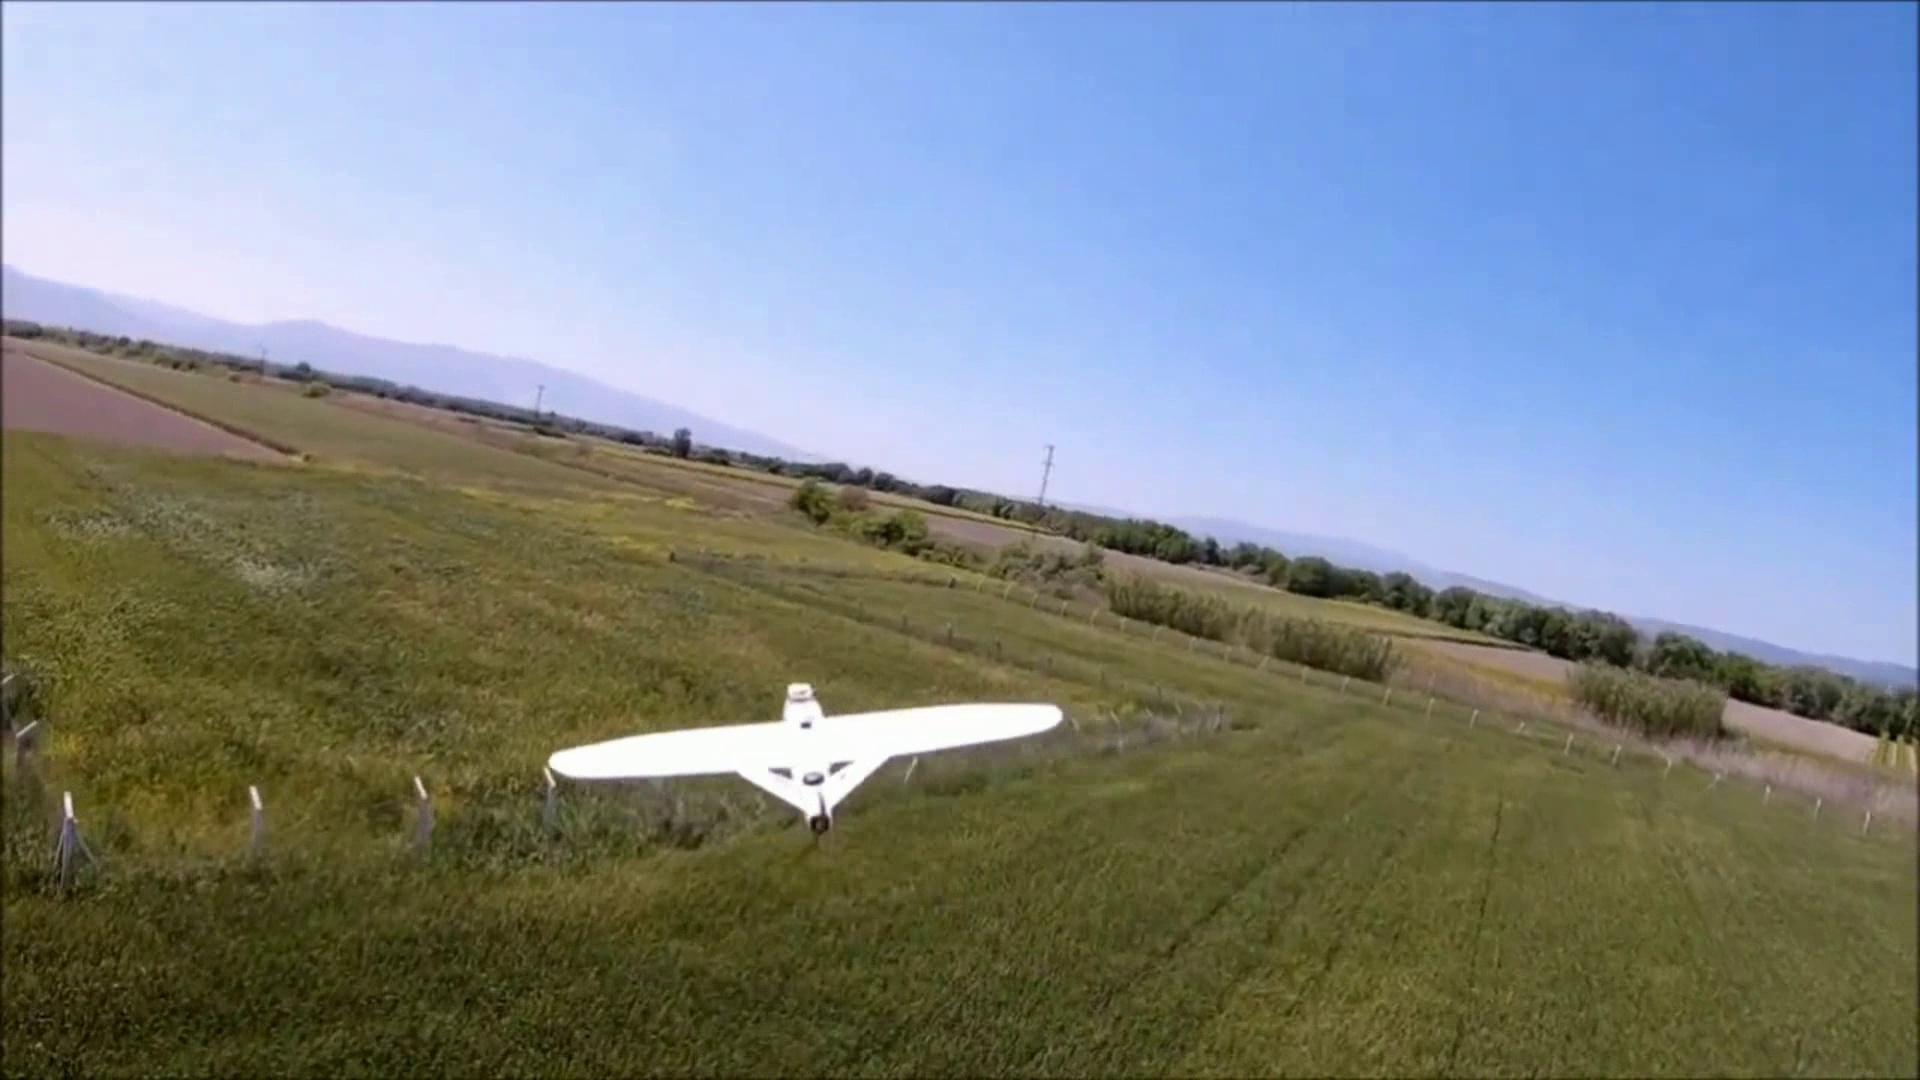airplane: (543, 682, 1068, 849)
